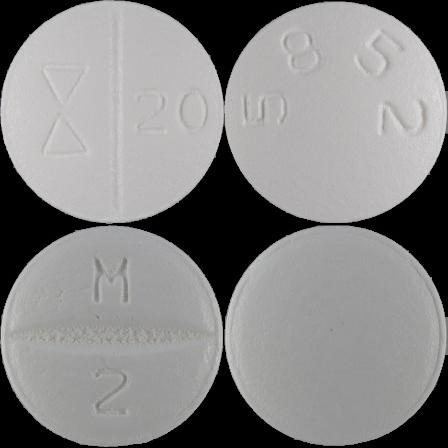76237-402: (0, 0, 224, 224)
